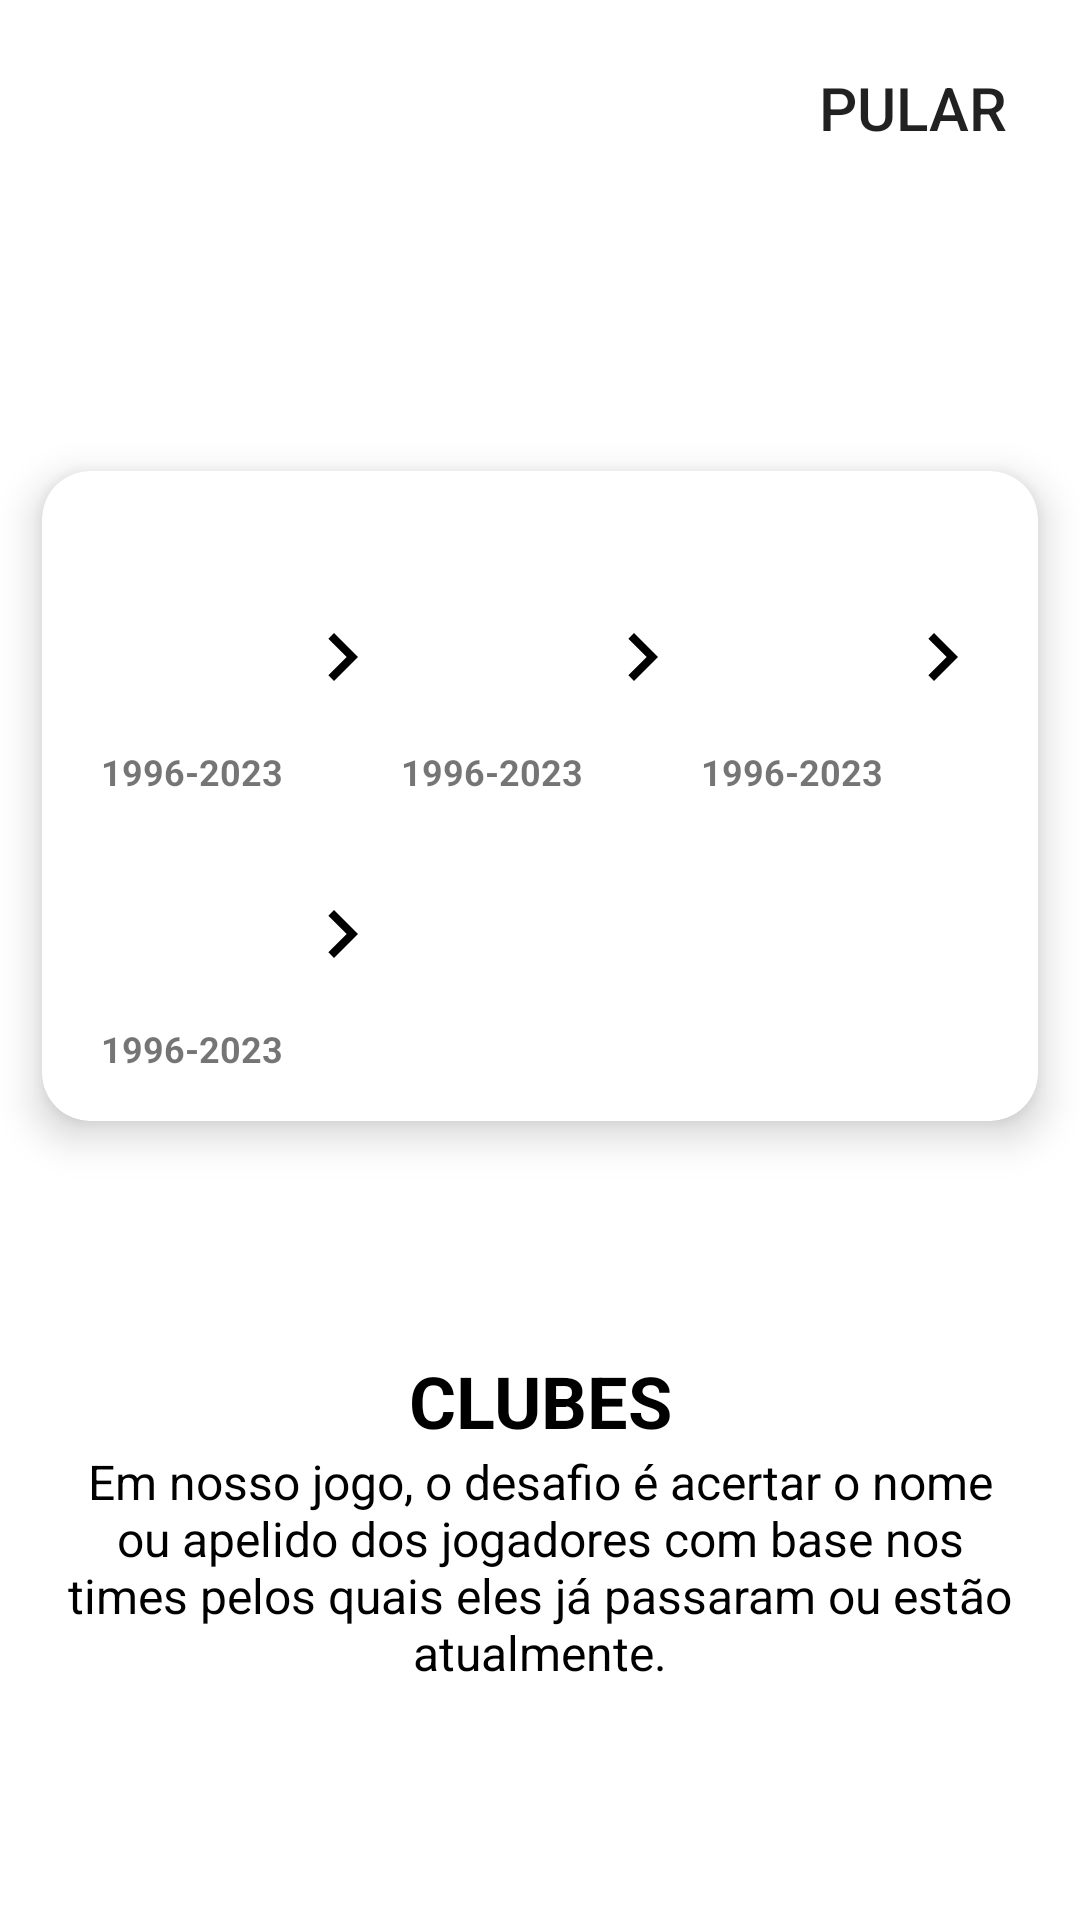

Named icons in this screenshot (1080 × 1920) and their centers, [x,y]:
arrow right: [343,657], [643,657], [943,657], [343,934]
